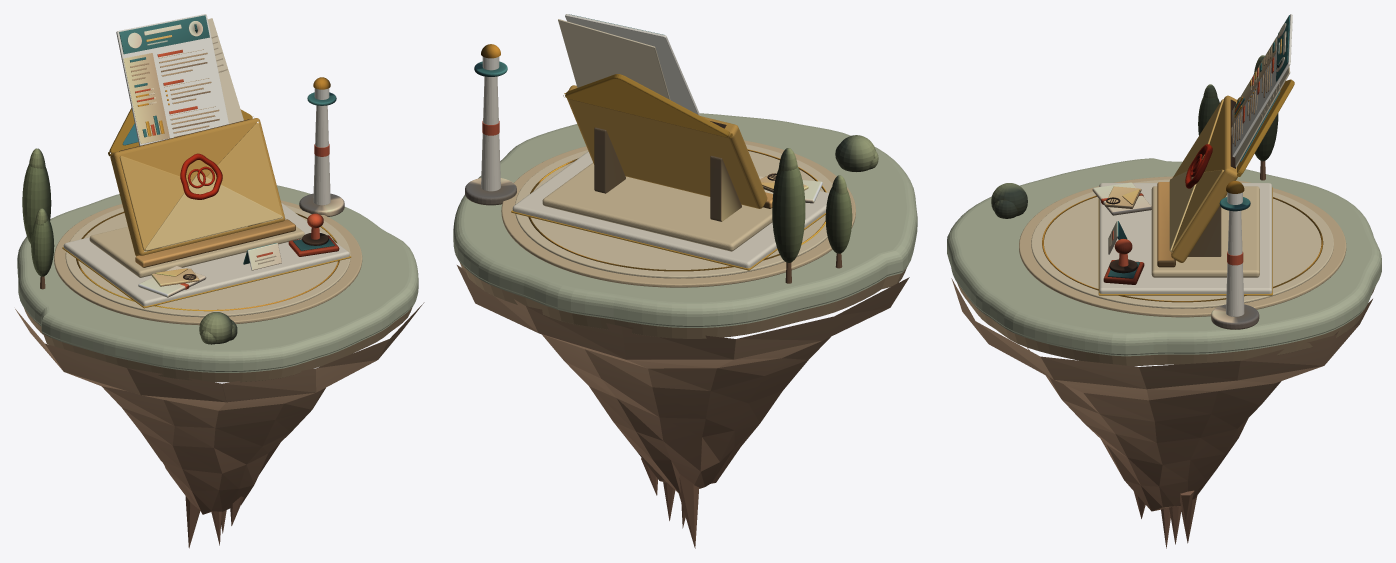
Rendered from baked-5.glb.
3 views of the same model, side by side, from view 1: azimuth 30°, elevation 25°; view 2: azimuth 150°, elevation 25°; view 3: azimuth 270°, elevation 25° (orthographic). The views are drawn at different scales.
Visible parts, largest first — view 1: lm.001, vl.001; view 2: lm.001, vl.001; view 3: lm.001, vl.001.
Boxes of the visible parts, x1,y1,x2,y2 form: lm.001: (15,14,424,548); vl.001: (22,15,344,344); lm.001: (453,14,917,548); vl.001: (465,14,878,271); lm.001: (947,14,1381,548); vl.001: (991,15,1323,329).
Size of the model in its own units: 14.11 by 18.5 by 14.07.
